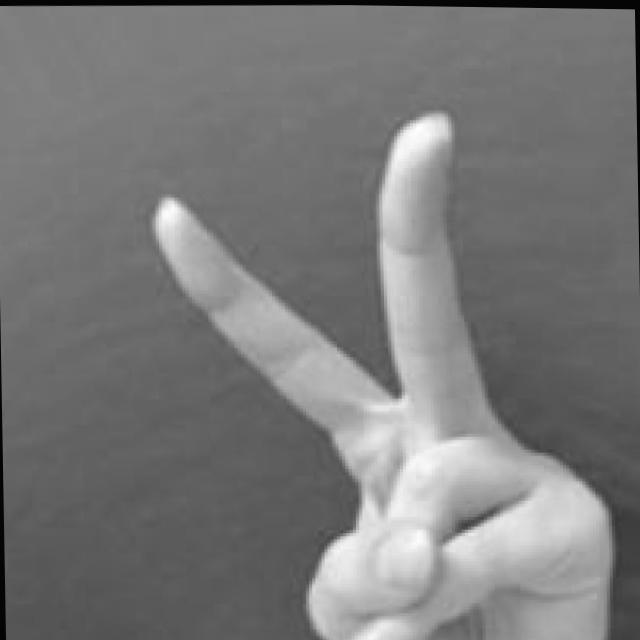V: (146, 99, 613, 640)
